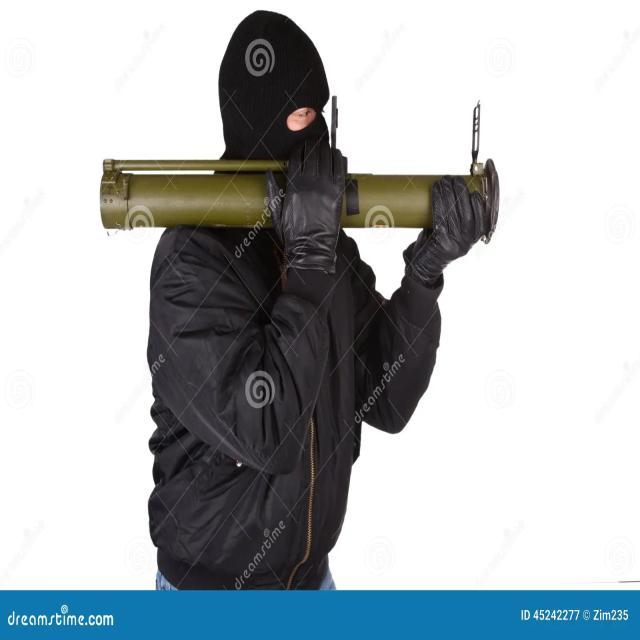bazooka: (84, 145, 543, 270)
